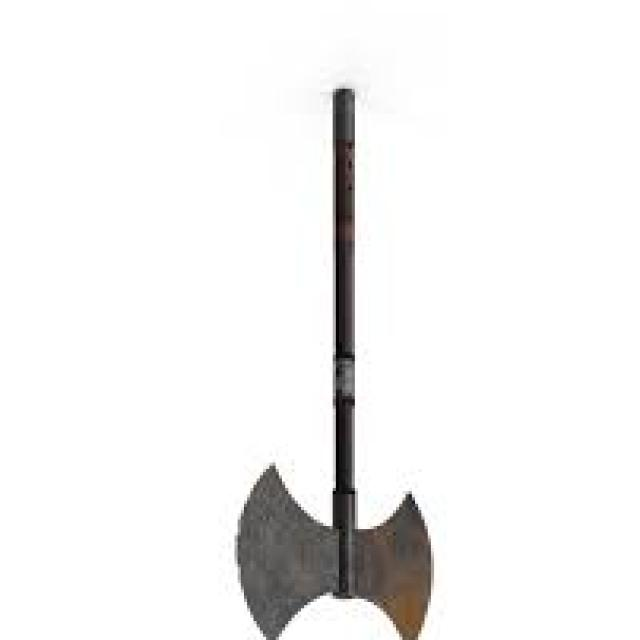Gun: (209, 57, 456, 640)
